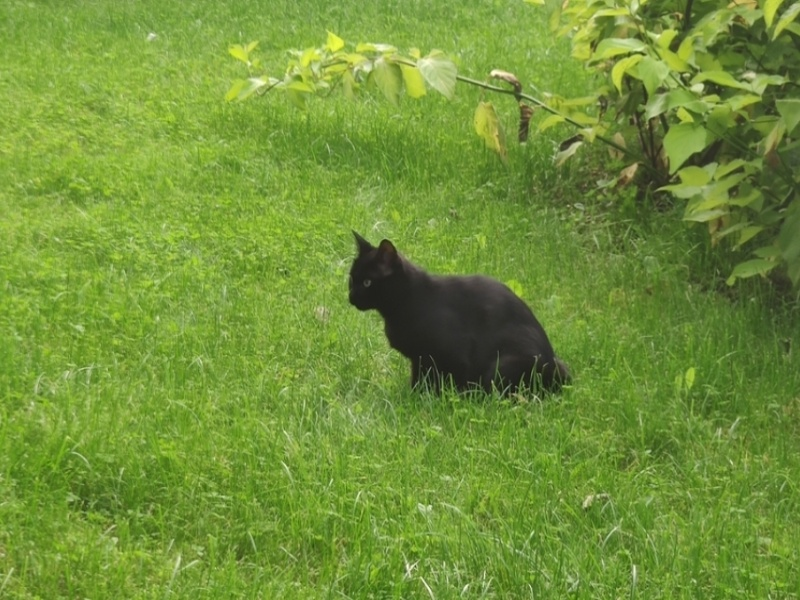cat: (342, 227, 581, 408)
